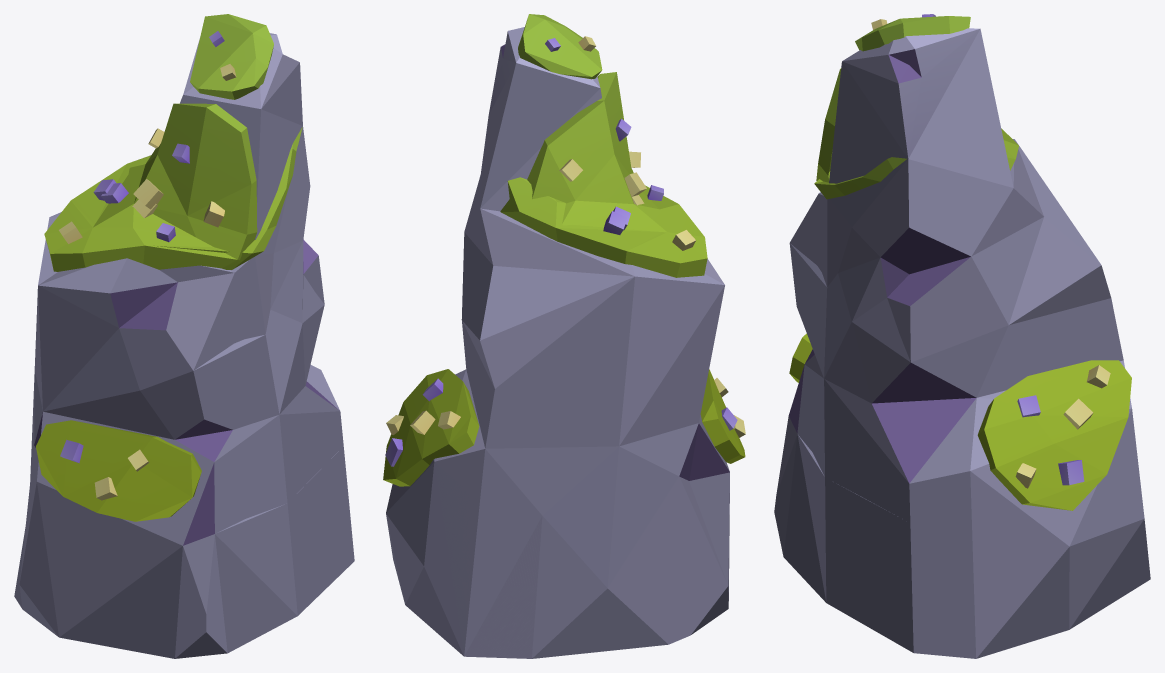
File: MossyStone1.fbx
3 renders of one model, left to right at view 1: azimuth 30°, elevation 25°; view 2: azimuth 150°, elevation 25°; view 3: azimuth 270°, elevation 25°, orthographic. The views are drawn at different scales.
Parts seen in each view (by area): view 1: MossyStone1(50Percents), MossyStone1(25Percents), MossyStone1(75Percents), MossyStone1(100Percents); view 2: MossyStone1(50Percents), MossyStone1(25Percents), MossyStone1(100Percents), MossyStone1(75Percents); view 3: MossyStone1(50Percents), MossyStone1(25Percents), MossyStone1(75Percents), MossyStone1(100Percents).
Boxes of the visible parts, x1,y1,x2,y2 form: MossyStone1(50Percents): [30, 275, 353, 636]; MossyStone1(25Percents): [14, 445, 354, 658]; MossyStone1(75Percents): [36, 127, 324, 521]; MossyStone1(100Percents): [44, 14, 302, 520]; MossyStone1(50Percents): [383, 276, 729, 658]; MossyStone1(25Percents): [386, 461, 729, 658]; MossyStone1(100Percents): [391, 14, 745, 466]; MossyStone1(75Percents): [385, 119, 745, 465]; MossyStone1(50Percents): [788, 243, 1131, 658]; MossyStone1(25Percents): [774, 408, 1150, 658]; MossyStone1(75Percents): [790, 128, 1111, 487]; MossyStone1(100Percents): [789, 14, 1079, 510].
Size of the model in its own units: 2.05 by 3.33 by 1.95.
